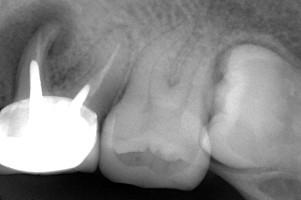Dental Caries: (0, 0, 78, 113), (47, 63, 78, 89)
